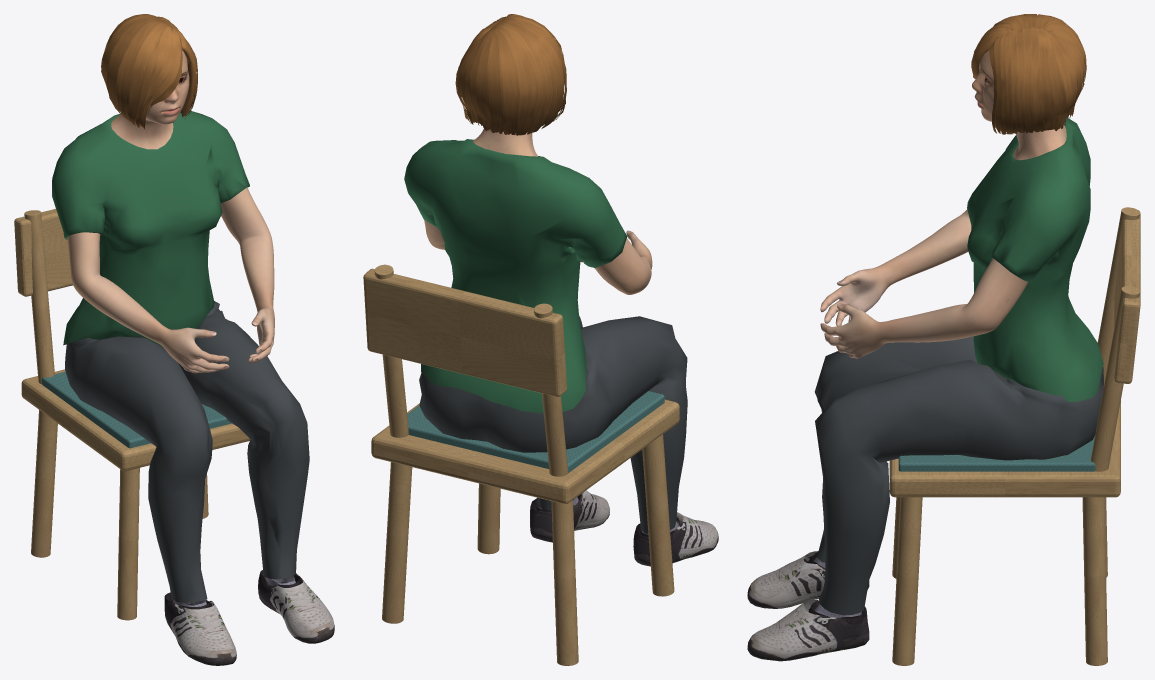
The model's file is taylor.glb.
3 views of the same model, side by side, from view 1: azimuth 30°, elevation 25°; view 2: azimuth 150°, elevation 25°; view 3: azimuth 270°, elevation 25° (orthographic). The views are drawn at different scales.
Parts seen in each view (by area): view 1: female_casualsuit01, Taylor | anatomical body, bob02, shoes05, Chair | rounded timber seat, Chair | shaped backrest, Chair | splayed solid timber leg, Chair | splayed solid timber leg.001, Chair | backrest upright, Chair | discreet seat pad; view 2: female_casualsuit01, Chair | shaped backrest, bob02, Chair | rounded timber seat, shoes05, Chair | discreet seat pad, Chair | splayed solid timber leg.001, Taylor | anatomical body, Chair | splayed solid timber leg.003, Chair | splayed solid timber leg, Chair | backrest upright, Chair | backrest upright.001 (+1 smaller); view 3: female_casualsuit01, Taylor | anatomical body, bob02, shoes05, Chair | rounded timber seat, Chair | splayed solid timber leg.002, Chair | splayed solid timber leg.003, Chair | shaped backrest, Chair | discreet seat pad, Chair | backrest upright.001, Chair | backrest upright.
Boxes of the visible parts, box(x1,y1,x2,y2) form: female_casualsuit01: box(52, 110, 309, 602); Taylor | anatomical body: box(67, 50, 274, 373); bob02: box(101, 14, 197, 129); shoes05: box(164, 570, 334, 665); Chair | rounded timber seat: box(21, 369, 250, 471); Chair | shaped backrest: box(14, 209, 72, 296); Chair | splayed solid timber leg: box(117, 468, 139, 620); Chair | splayed solid timber leg.001: box(31, 410, 57, 557); Chair | backrest upright: box(24, 210, 54, 384); Chair | discreet seat pad: box(42, 371, 231, 448); female_casualsuit01: box(404, 139, 687, 533); Chair | shaped backrest: box(363, 268, 566, 396); bob02: box(455, 14, 566, 135); Chair | rounded timber seat: box(371, 399, 679, 504); shoes05: box(530, 490, 718, 566); Chair | discreet seat pad: box(407, 391, 664, 472); Chair | splayed solid timber leg.001: box(551, 500, 578, 665); Taylor | anatomical body: box(424, 128, 652, 294); Chair | splayed solid timber leg.003: box(382, 462, 412, 623); Chair | splayed solid timber leg: box(642, 434, 674, 596); Chair | backrest upright: box(533, 303, 567, 476); Chair | backrest upright.001: box(374, 264, 408, 437); female_casualsuit01: box(814, 118, 1103, 615); Taylor | anatomical body: box(820, 50, 1066, 358); bob02: box(971, 14, 1086, 134); shoes05: box(747, 551, 869, 661); Chair | rounded timber seat: box(889, 400, 1120, 497); Chair | splayed solid timber leg.002: box(892, 497, 922, 665); Chair | splayed solid timber leg.003: box(1082, 497, 1107, 665); Chair | shaped backrest: box(1114, 210, 1140, 383); Chair | discreet seat pad: box(898, 436, 1095, 471); Chair | backrest upright.001: box(1091, 286, 1140, 471); Chair | backrest upright: box(1097, 207, 1140, 386).
Bounding box in the file's own units: 0.4983 × 1.34 × 0.782.
11 materials, 11 textured.
